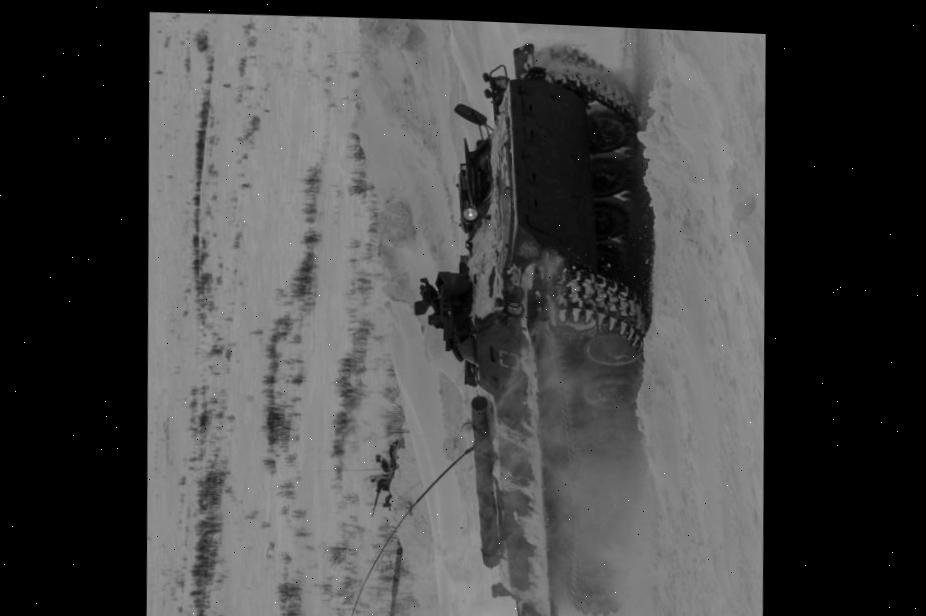tank: (400, 30, 661, 616), (370, 421, 422, 616)
